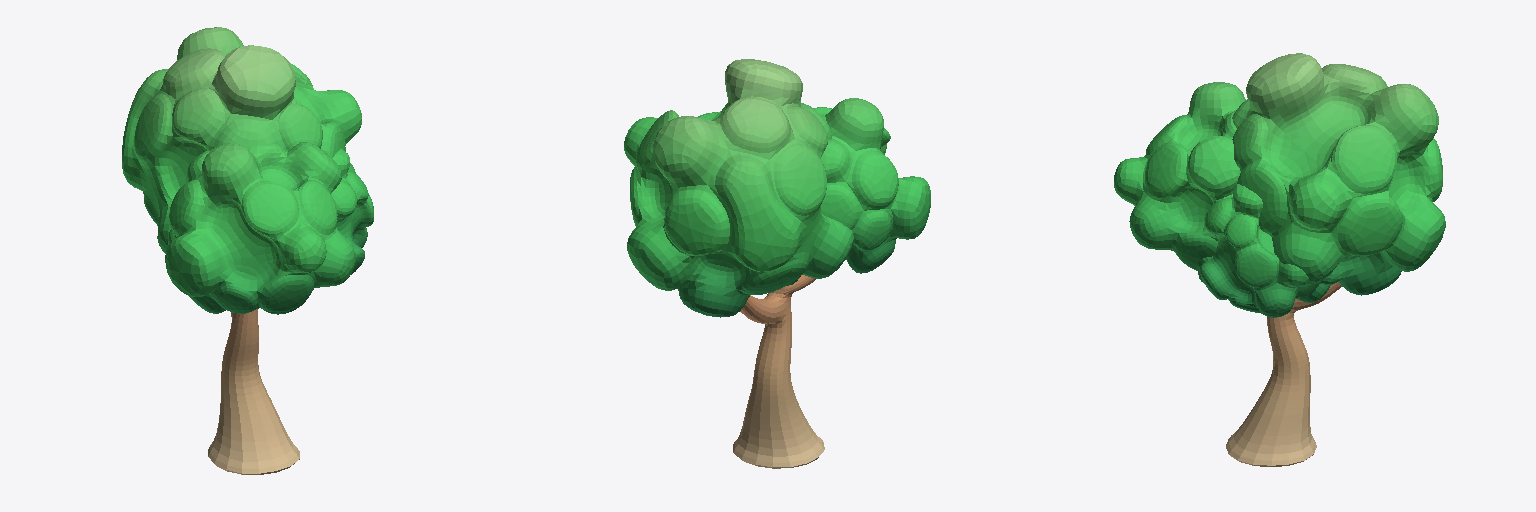
3 views of the same model, side by side, from view 1: azimuth 30°, elevation 25°; view 2: azimuth 150°, elevation 25°; view 3: azimuth 270°, elevation 25° (orthographic).
Visible parts, largest first — view 1: pSolid9, pCube3; view 2: pSolid9, pCube3; view 3: pSolid9, pCube3.
Boxes of the visible parts, <box> form: pSolid9: <box>122,27,373,314</box>; pCube3: <box>208,309,299,474</box>; pSolid9: <box>624,59,930,317</box>; pCube3: <box>733,275,824,468</box>; pSolid9: <box>1114,53,1445,317</box>; pCube3: <box>1226,282,1341,466</box>.
Size of the model in its own units: 1.66 by 2.62 by 1.99.
1 materials, 1 textured.